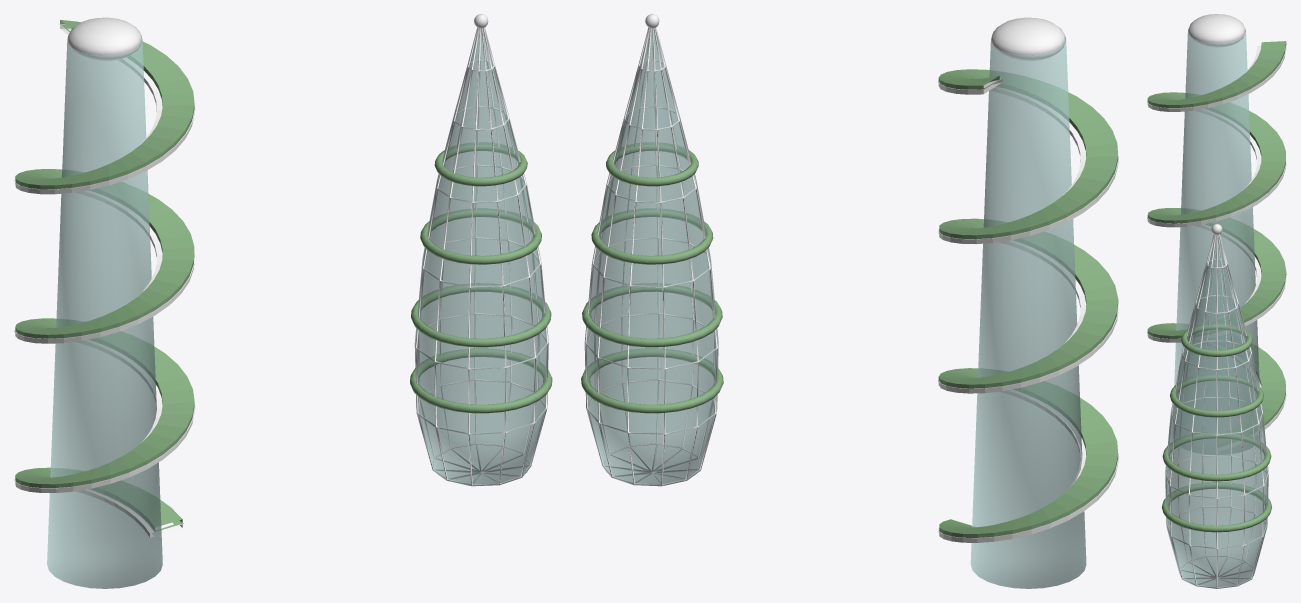
The model's file is city_hero.glb.
3 views of the same model, side by side, from view 1: azimuth 30°, elevation 25°; view 2: azimuth 150°, elevation 25°; view 3: azimuth 270°, elevation 25° (orthographic). The views are drawn at different scales.
Parts seen in each view (by area): view 1: spiral_core, drop_glass, spiral_green, drop_grid, spiral_slab, drop_green_7, drop_green_12, spiral_cap, drop_green_18, drop_green_23.5, spiral_rail; view 2: spiral_core, drop_glass, spiral_green, drop_grid, spiral_slab, drop_green_7, drop_green_12, spiral_cap, drop_green_18, drop_green_23.5, spiral_rail; view 3: drop_glass, spiral_core, spiral_green, drop_grid, spiral_slab, drop_green_7, drop_green_12, spiral_cap, drop_green_18, drop_green_23.5, spiral_rail.
Boxes of the visible parts, x1,y1,x2,y2 form: spiral_core: [47, 38, 162, 588]; drop_glass: [414, 29, 547, 485]; spiral_green: [15, 20, 194, 531]; drop_grid: [415, 27, 548, 486]; spiral_slab: [15, 25, 193, 537]; drop_green_7: [410, 348, 552, 413]; drop_green_12: [411, 283, 551, 347]; spiral_cap: [67, 17, 142, 61]; drop_green_18: [420, 208, 541, 264]; drop_green_23.5: [434, 142, 527, 186]; spiral_rail: [14, 23, 195, 524]; spiral_core: [970, 38, 1086, 588]; drop_glass: [586, 29, 718, 485]; spiral_green: [938, 69, 1118, 537]; drop_grid: [584, 27, 718, 486]; spiral_slab: [938, 78, 1118, 542]; drop_green_7: [581, 348, 723, 413]; drop_green_12: [582, 283, 722, 347]; spiral_cap: [991, 17, 1065, 61]; drop_green_18: [591, 208, 713, 264]; drop_green_23.5: [606, 142, 698, 186]; spiral_rail: [938, 81, 1118, 539]; drop_glass: [1165, 237, 1268, 587]; spiral_core: [1173, 28, 1259, 454]; spiral_green: [1147, 41, 1286, 447]; drop_grid: [1165, 234, 1268, 588]; spiral_slab: [1147, 46, 1285, 451]; drop_green_7: [1161, 482, 1271, 532]; drop_green_12: [1162, 432, 1271, 481]; spiral_cap: [1188, 14, 1245, 47]; drop_green_18: [1170, 374, 1263, 417]; drop_green_23.5: [1181, 323, 1252, 356]; spiral_rail: [1147, 44, 1286, 448].
Bounding box in the file's own units: 41.19 × 41.25 × 12.5.
